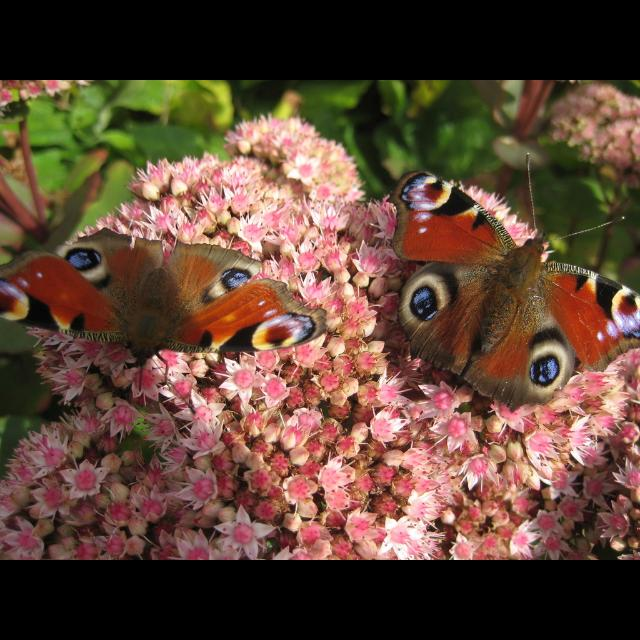Flower: (1, 115, 640, 559), (550, 80, 640, 162), (215, 505, 278, 559), (0, 80, 96, 110)
